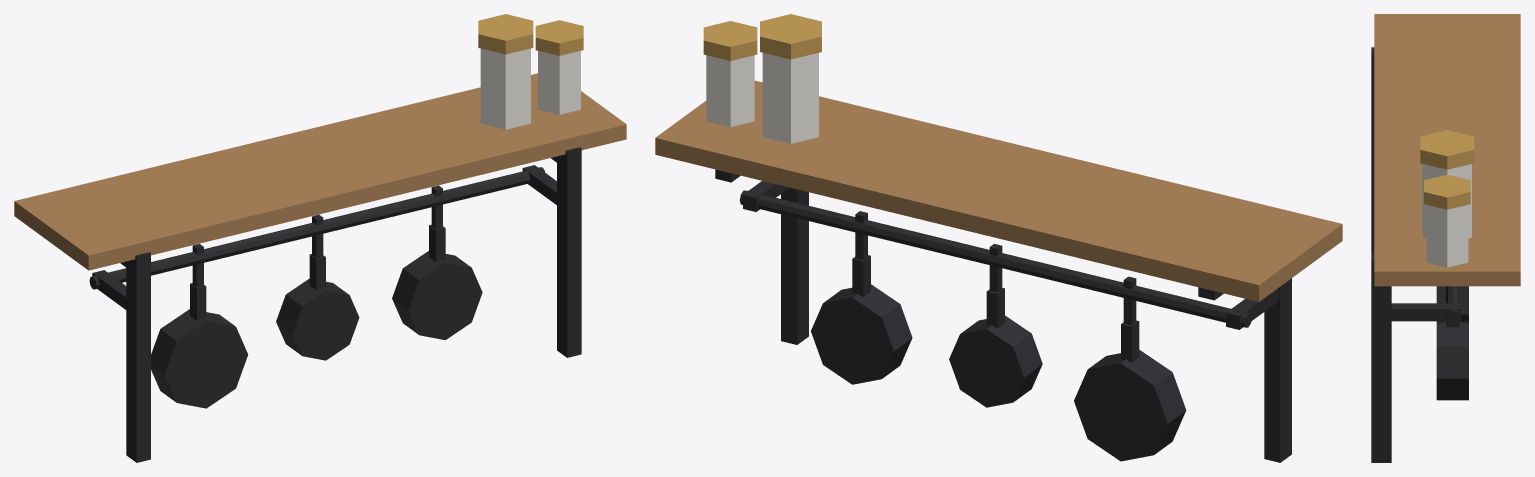
Rendered from FN_Shelf_Kitchen.obj.
3 renders of one model, left to right at view 1: azimuth 30°, elevation 25°; view 2: azimuth 150°, elevation 25°; view 3: azimuth 270°, elevation 25°, orthographic. The views are drawn at different scales.
Parts seen in each view (by area): view 1: FN_Shelf_Kitchen; view 2: FN_Shelf_Kitchen; view 3: FN_Shelf_Kitchen.
Boxes of the visible parts, <box> form: FN_Shelf_Kitchen: <box>14,14,626,462</box>; FN_Shelf_Kitchen: <box>655,14,1342,462</box>; FN_Shelf_Kitchen: <box>1371,14,1520,462</box>.
Bounding box in the file's own units: 0.9 × 0.492 × 0.22.
Materials: 1 (1 with a texture image).
